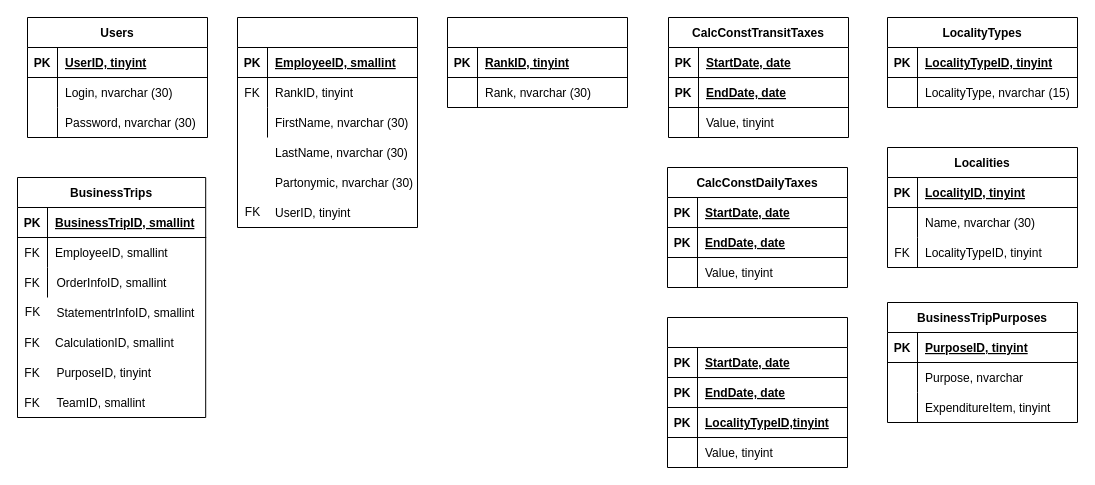
The diagram is 1095 pixels wide and 485 high, and some of its shapes have lost their labels. Here are the shapes that lost their labels. From the top down, the box of each, then its label:
(446, 16, 628, 108): Ranks
(236, 16, 418, 228): Staff
(666, 316, 848, 468): CalcConstDwellingTaxes
